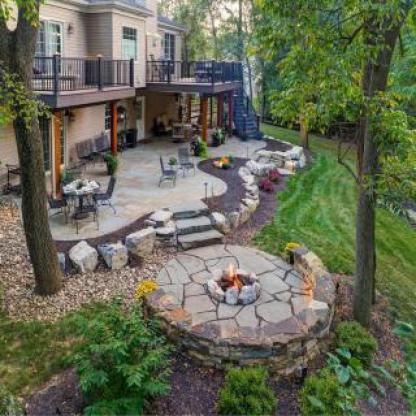fire: (222, 256, 240, 286), (218, 153, 230, 165)
